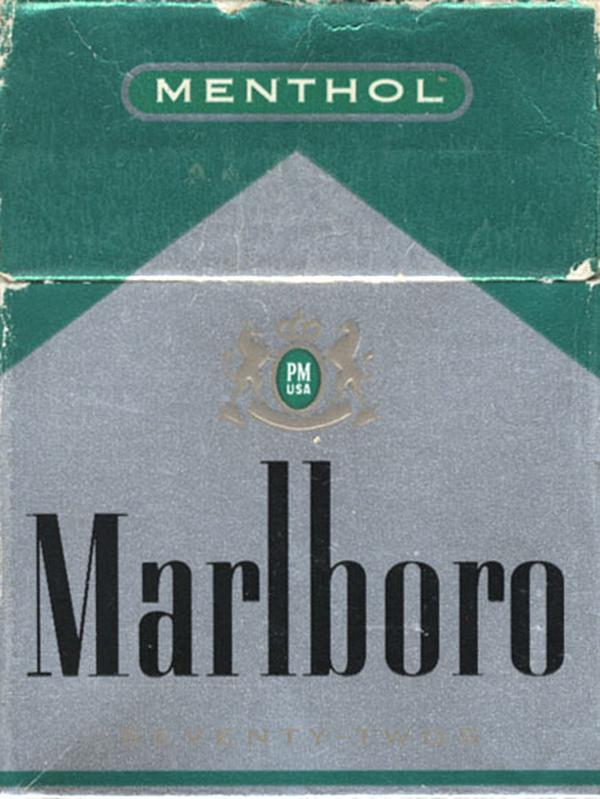marlboro_mentol: (8, 5, 600, 796)
